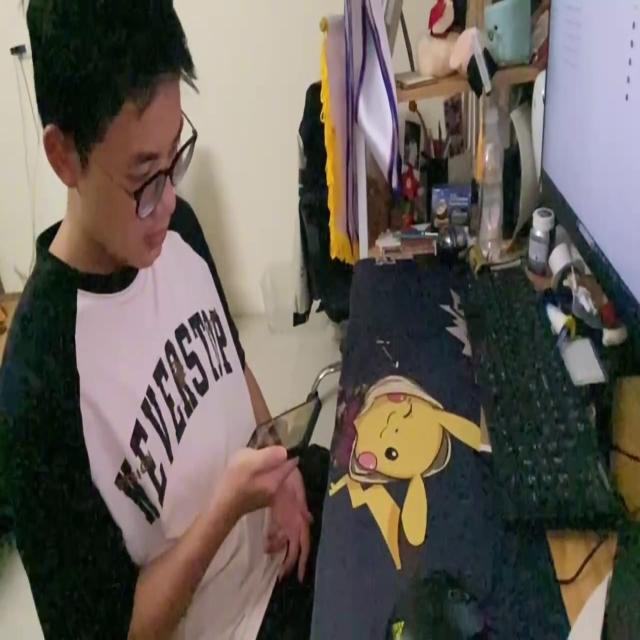laptop: (537, 0, 640, 342)
phone: (244, 394, 322, 465)
student: (2, 0, 320, 640)
